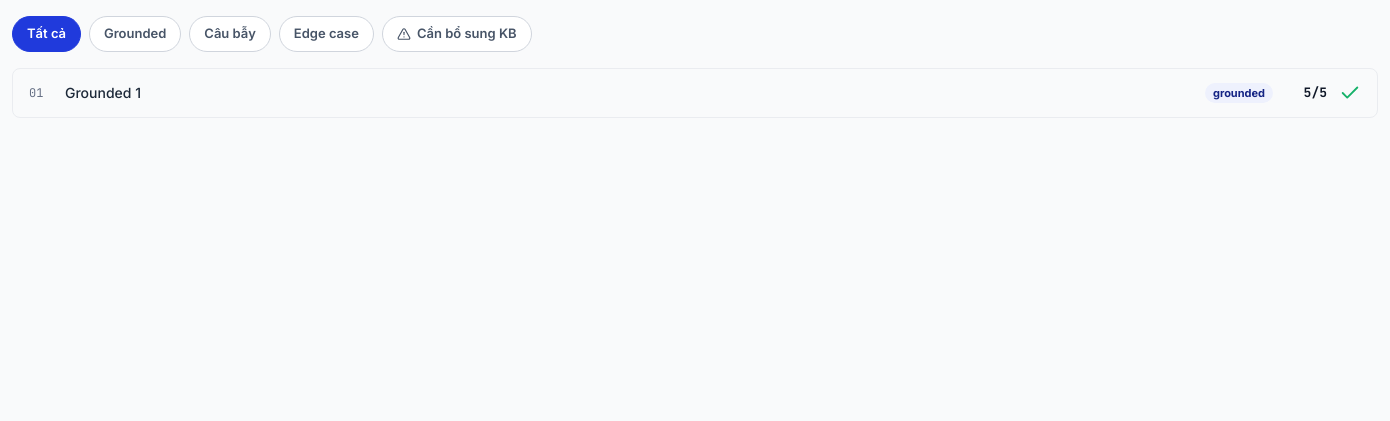
Test: EvalTestList — sửa câu trả lời › từ chối lưu câu trả lời rỗng, không gọi server
Click the button "01 Grounded 1 grounded 5/5": (103, 92) [13,69,1377,117]
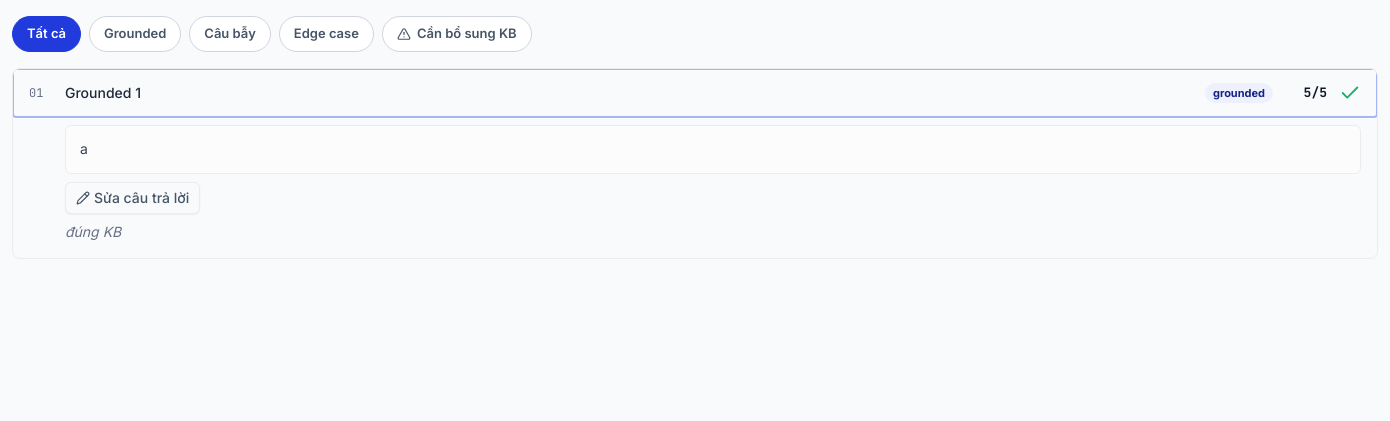
Click the button "Sửa câu trả lời": (133, 198) [65,182,200,214]
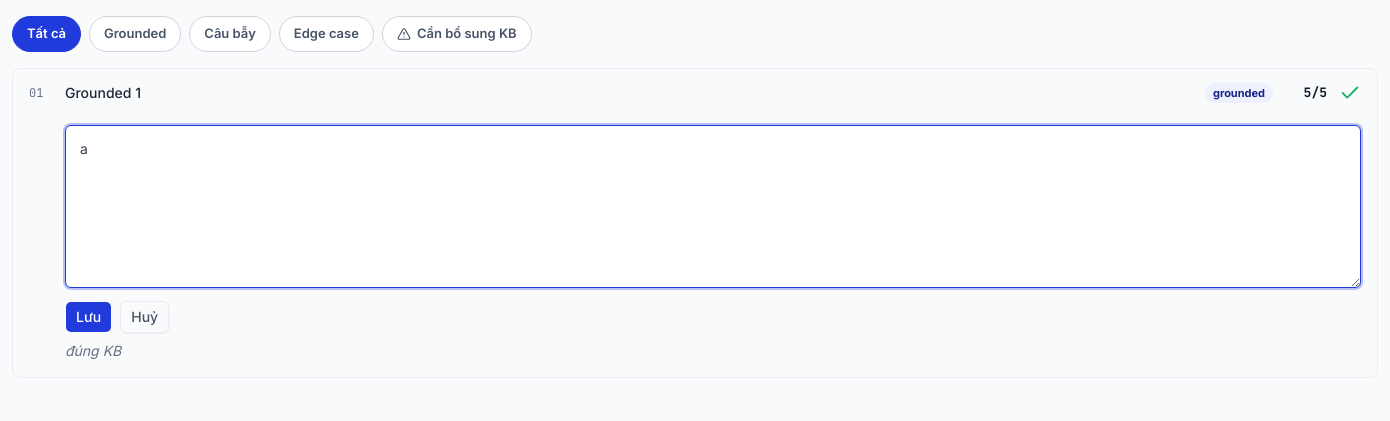
Clear the text box: (713, 206) [65,125,1361,288]
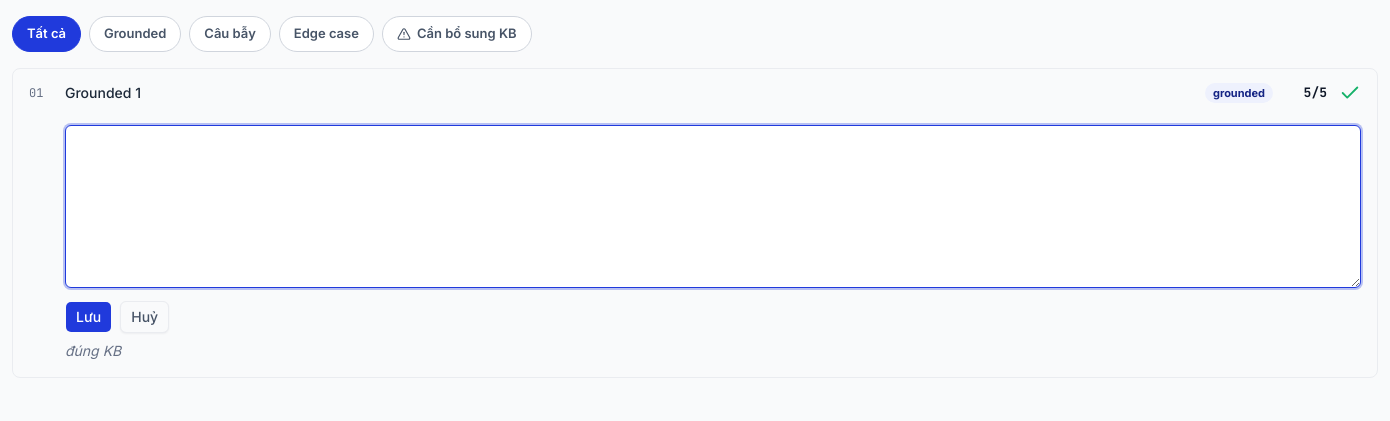
Click the button "Lưu": (89, 316) [65,300,112,332]
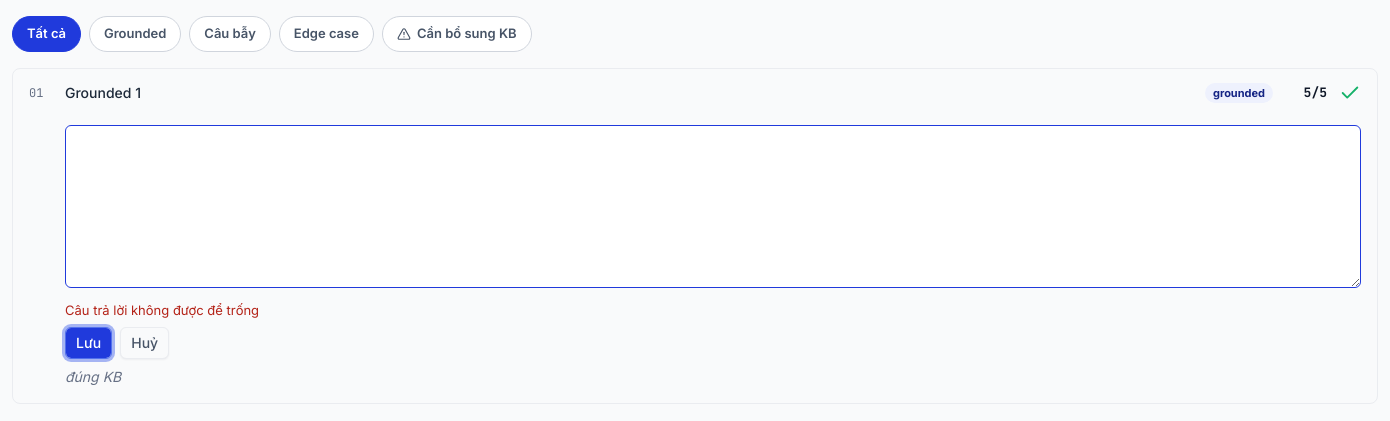
Now the message shows "không được để trống", box [65,302,259,318]
